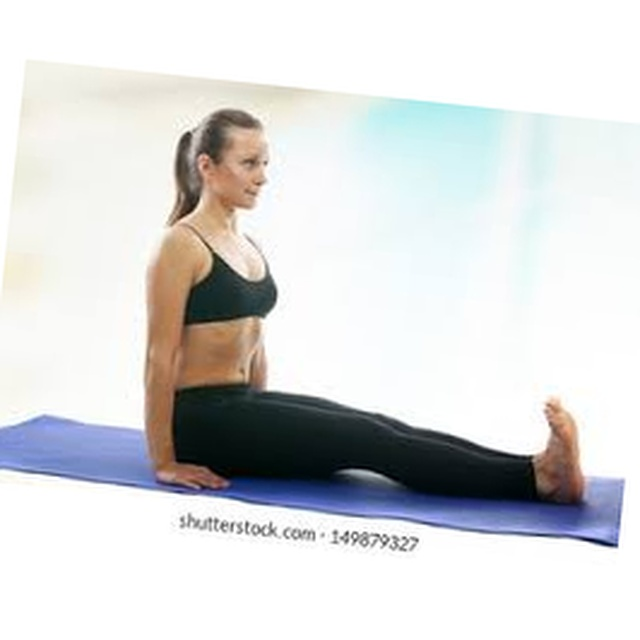Staff_Pose: (140, 107, 587, 509)
